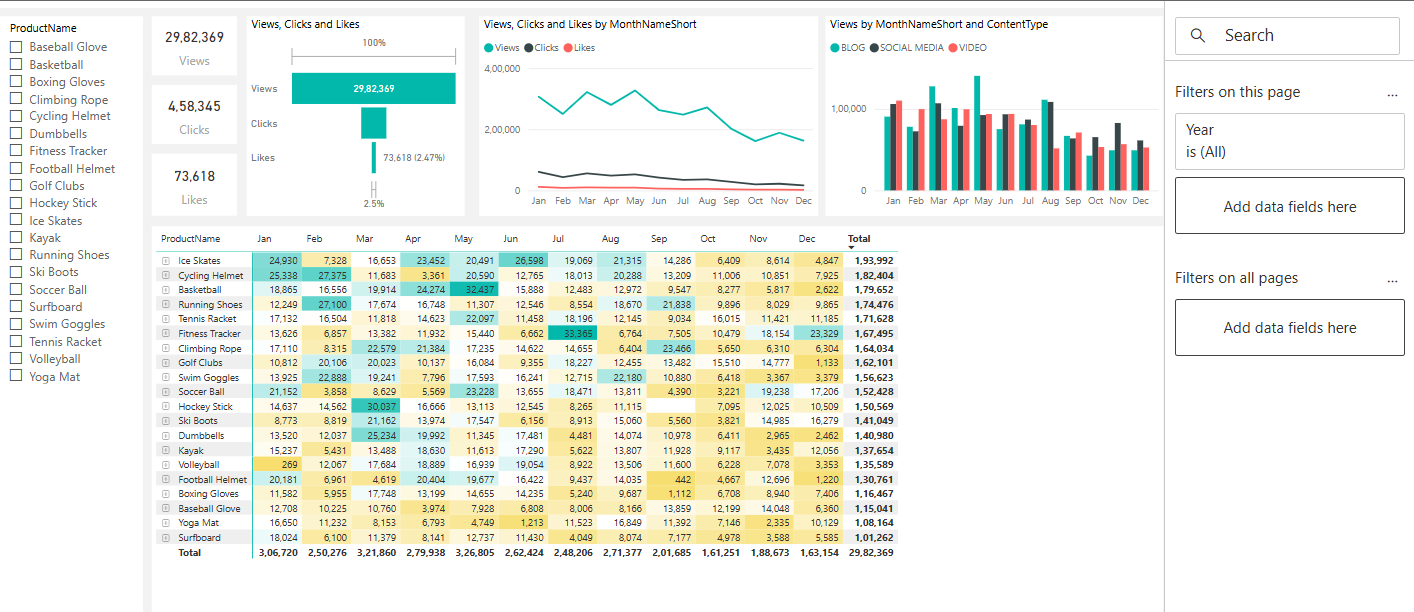

The dashboard page shown, as its layout file describes it:
{"tool":"powerbi","page":{"name":"Social Media Details","canvas":[1280,720],"ordinal":2},"visuals":[{"type":"textbox","box":[0,0,1280,52.6],"z":0},{"type":"slicer","fields":{"Values":["dim_products.ProductName"]},"box":[0,61.6,159.5,658.5],"z":1000},{"type":"lineChart","fields":{"Y":["_Calculations.Views","_Calculations.Clicks","_Calculations.Likes"],"Category":["Calendar.MonthNameShort"]},"box":[528.5,61.9,371.6,218.8],"z":2000},{"type":"funnel","fields":{"Y":["_Calculations.Views","_Calculations.Clicks","_Calculations.Likes"]},"box":[272.5,61.9,239.5,218.8],"z":3000},{"type":"card","fields":{"Values":["_Calculations.Views"]},"box":[168.3,61.9,93.9,65],"z":4000},{"type":"card","fields":{"Values":["_Calculations.Clicks"]},"box":[168.3,137.3,93.9,65],"z":5000},{"type":"card","fields":{"Values":["_Calculations.Likes"]},"box":[168.3,212.6,93.9,68.1],"z":6000},{"type":"slicer","fields":{"Values":["Calendar.MonthNameShort"]},"box":[536.8,4.1,743.2,44.4],"z":7000},{"type":"slicer","fields":{"Values":["Calendar.Year"]},"box":[324.1,4.1,208.5,44.4],"z":8000},{"type":"pivotTable","fields":{"Rows":["dim_products.ProductName","fact_engagement.ContentType"],"Values":["_Calculations.Views"],"Columns":["Calendar.MonthNameShort"]},"box":[168.3,292.1,1110.7,428.4],"z":9000},{"type":"clusteredColumnChart","fields":{"Category":["Calendar.MonthNameShort"],"Series":["fact_engagement.ContentType"],"Y":["_Calculations.Views"]},"box":[908.4,61.9,370.6,218.8],"z":10000}]}

Visuals, with their boxes on the page's 1280x720 design canvas (x1, y1, x2, y2). These are canvas units, not pixel positions in the 1414x612 screenshot, which may show the page scaled, cropped or inside an application window:
textbox: pyautogui.locateOnScreen(0, 0, 1280, 53)
slicer - dim_products.ProductName: pyautogui.locateOnScreen(0, 62, 160, 720)
lineChart - _Calculations.Views x _Calculations.Clicks: pyautogui.locateOnScreen(528, 62, 900, 281)
funnel - _Calculations.Views x _Calculations.Clicks: pyautogui.locateOnScreen(272, 62, 512, 281)
card - _Calculations.Views: pyautogui.locateOnScreen(168, 62, 262, 127)
card - _Calculations.Clicks: pyautogui.locateOnScreen(168, 137, 262, 202)
card - _Calculations.Likes: pyautogui.locateOnScreen(168, 213, 262, 281)
slicer - Calendar.MonthNameShort: pyautogui.locateOnScreen(537, 4, 1280, 48)
slicer - Calendar.Year: pyautogui.locateOnScreen(324, 4, 533, 48)
pivotTable - dim_products.ProductName x fact_engagement.ContentType: pyautogui.locateOnScreen(168, 292, 1279, 720)
clusteredColumnChart - Calendar.MonthNameShort x fact_engagement.ContentType: pyautogui.locateOnScreen(908, 62, 1279, 281)
